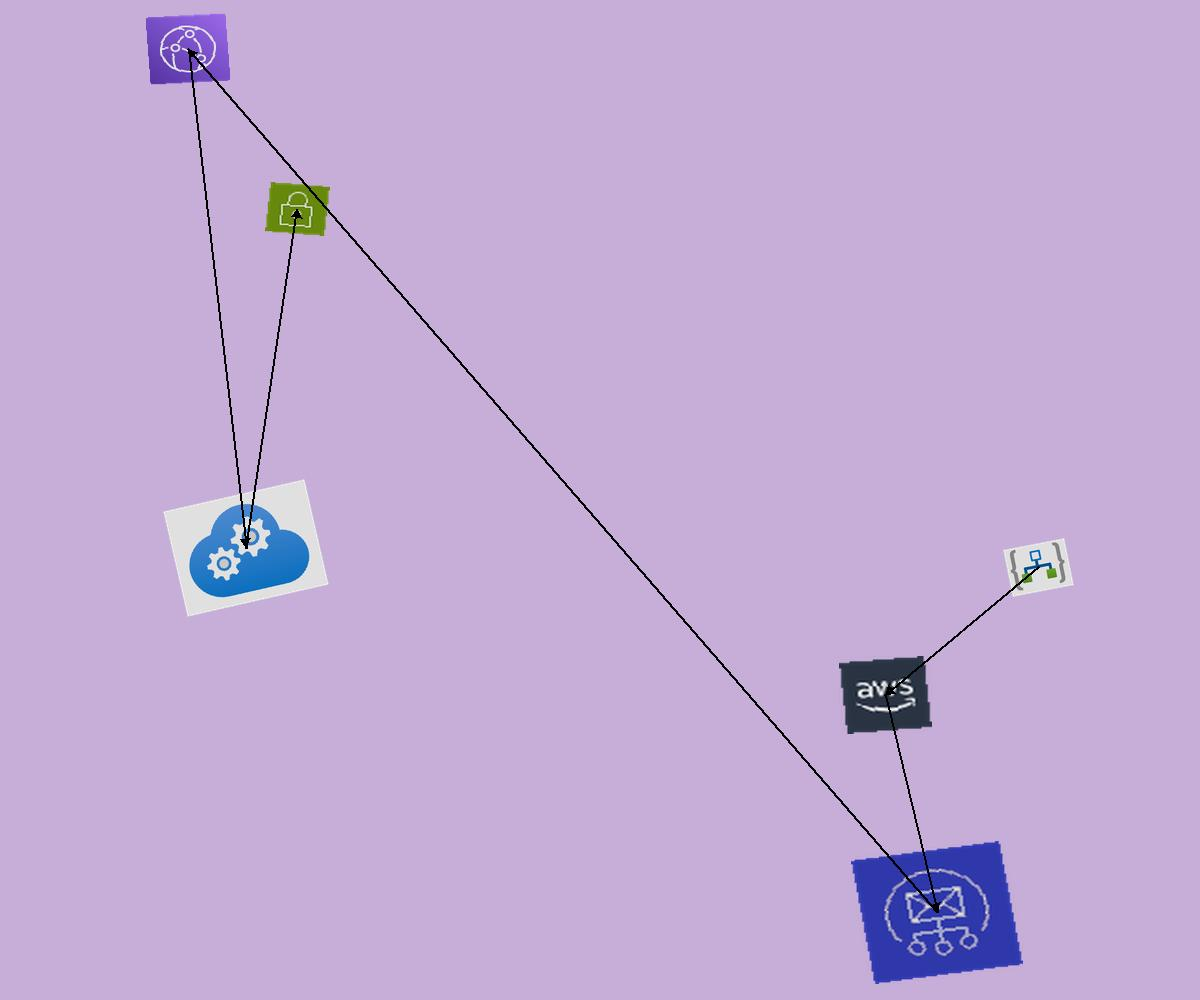AWS-Cloud-logo: (839, 656, 932, 734)
AWS-CloudFront: (145, 13, 231, 85)
AWS-Public-subnet: (265, 182, 330, 236)
AWS-Simple-Email-Service: (851, 841, 1023, 984)
Azure_cloud_services: (163, 479, 329, 617)
Azure_integration-204-Logic-Apps: (1003, 538, 1074, 597)
